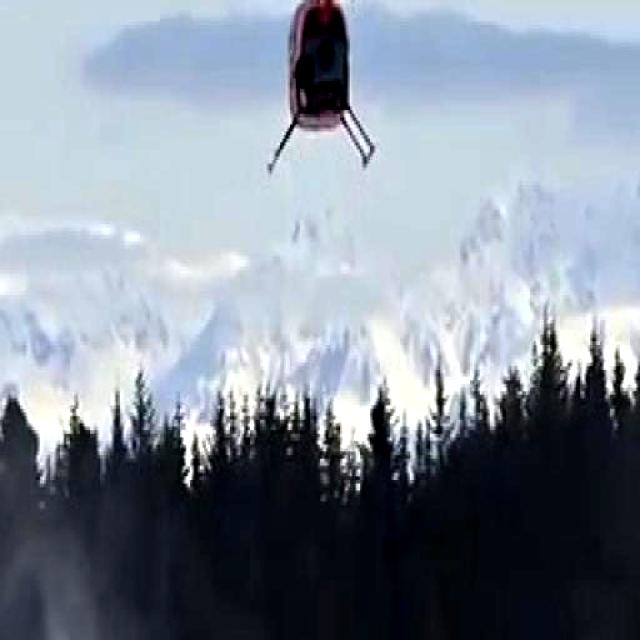drone: (230, 0, 389, 201)
